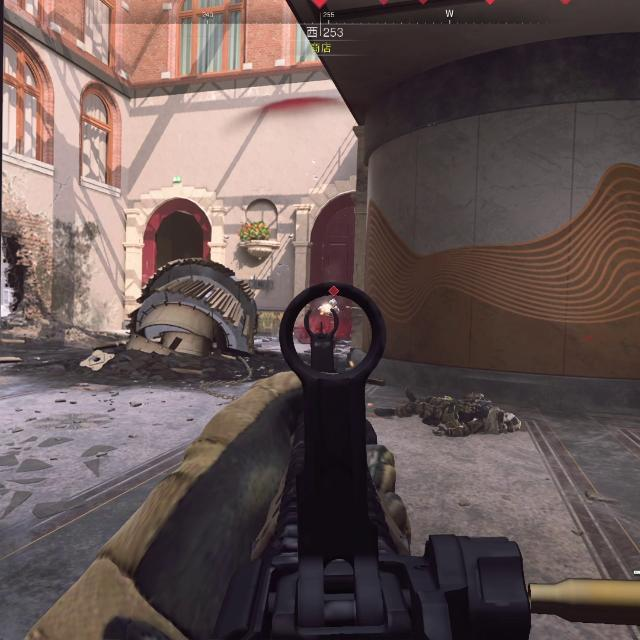MW2_body: (319, 286, 341, 316)
